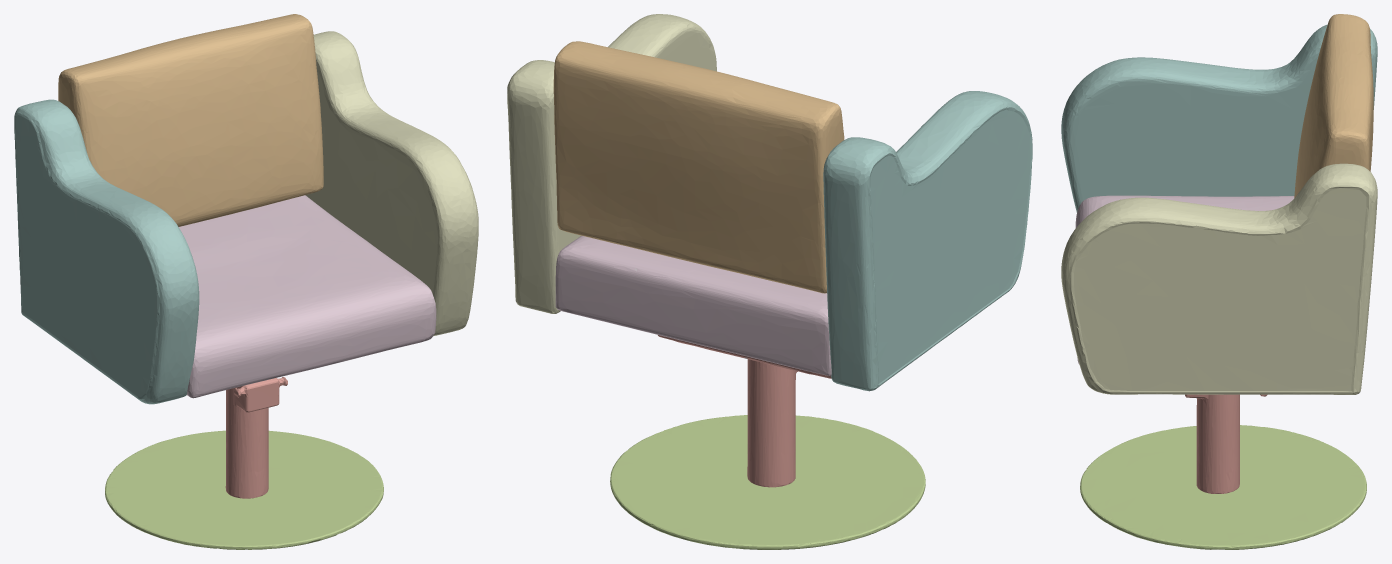
The model's file is chair.glb.
3 renders of one model, left to right at view 1: azimuth 30°, elevation 25°; view 2: azimuth 150°, elevation 25°; view 3: azimuth 270°, elevation 25°, orthographic. The views are drawn at different scales.
Parts seen in each view (by area): view 1: world; view 2: world; view 3: world.
Boxes of the visible parts, x1,y1,x2,y2 form: world: (14,14,478,549); world: (507,14,1032,549); world: (1061,14,1377,549).
Bounding box in the file's own units: 1.57 × 1.91 × 1.3.
